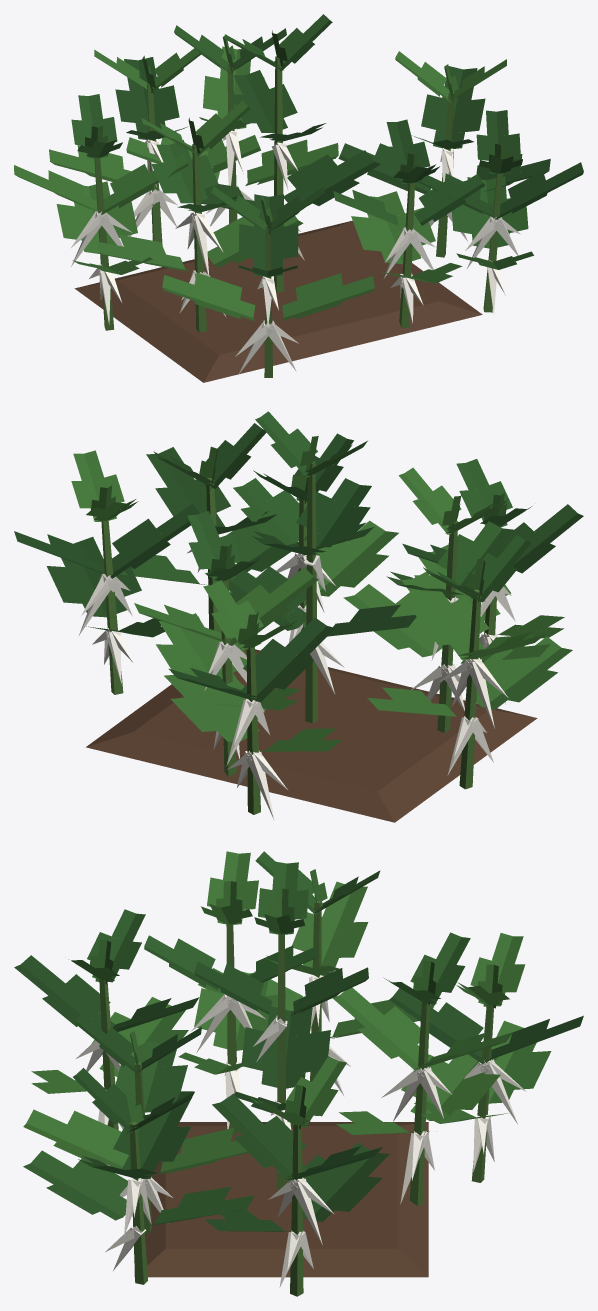
File: nettle-patch-blocky.glb
3 views of the same model, one above another, from view 1: azimuth 30°, elevation 25°; view 2: azimuth 150°, elevation 25°; view 3: azimuth 270°, elevation 25° (orthographic). The views are drawn at different scales.
Parts seen in each view (by area): view 1: nettle-patch; view 2: nettle-patch; view 3: nettle-patch.
Boxes of the visible parts, box(x1,y1,x2,y2) form: nettle-patch: box(14, 14, 583, 382); nettle-patch: box(14, 411, 583, 822); nettle-patch: box(14, 851, 583, 1296).
Bounding box in the file's own units: 1.18 × 0.6308 × 1.04.
